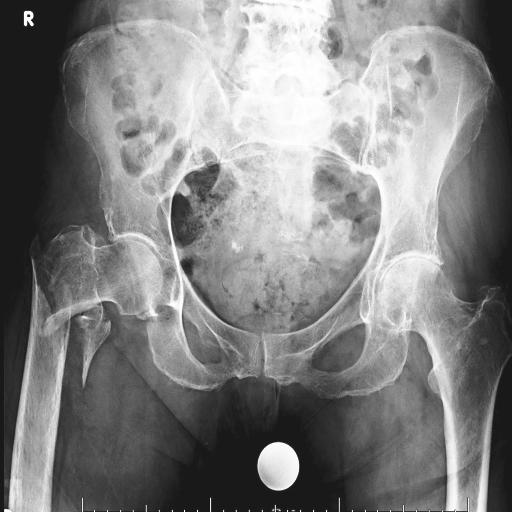intertrochanteric: (42, 225, 163, 339), (25, 235, 73, 369)
lesser-trochanter: (75, 303, 112, 388)
normal: (380, 256, 512, 504)
